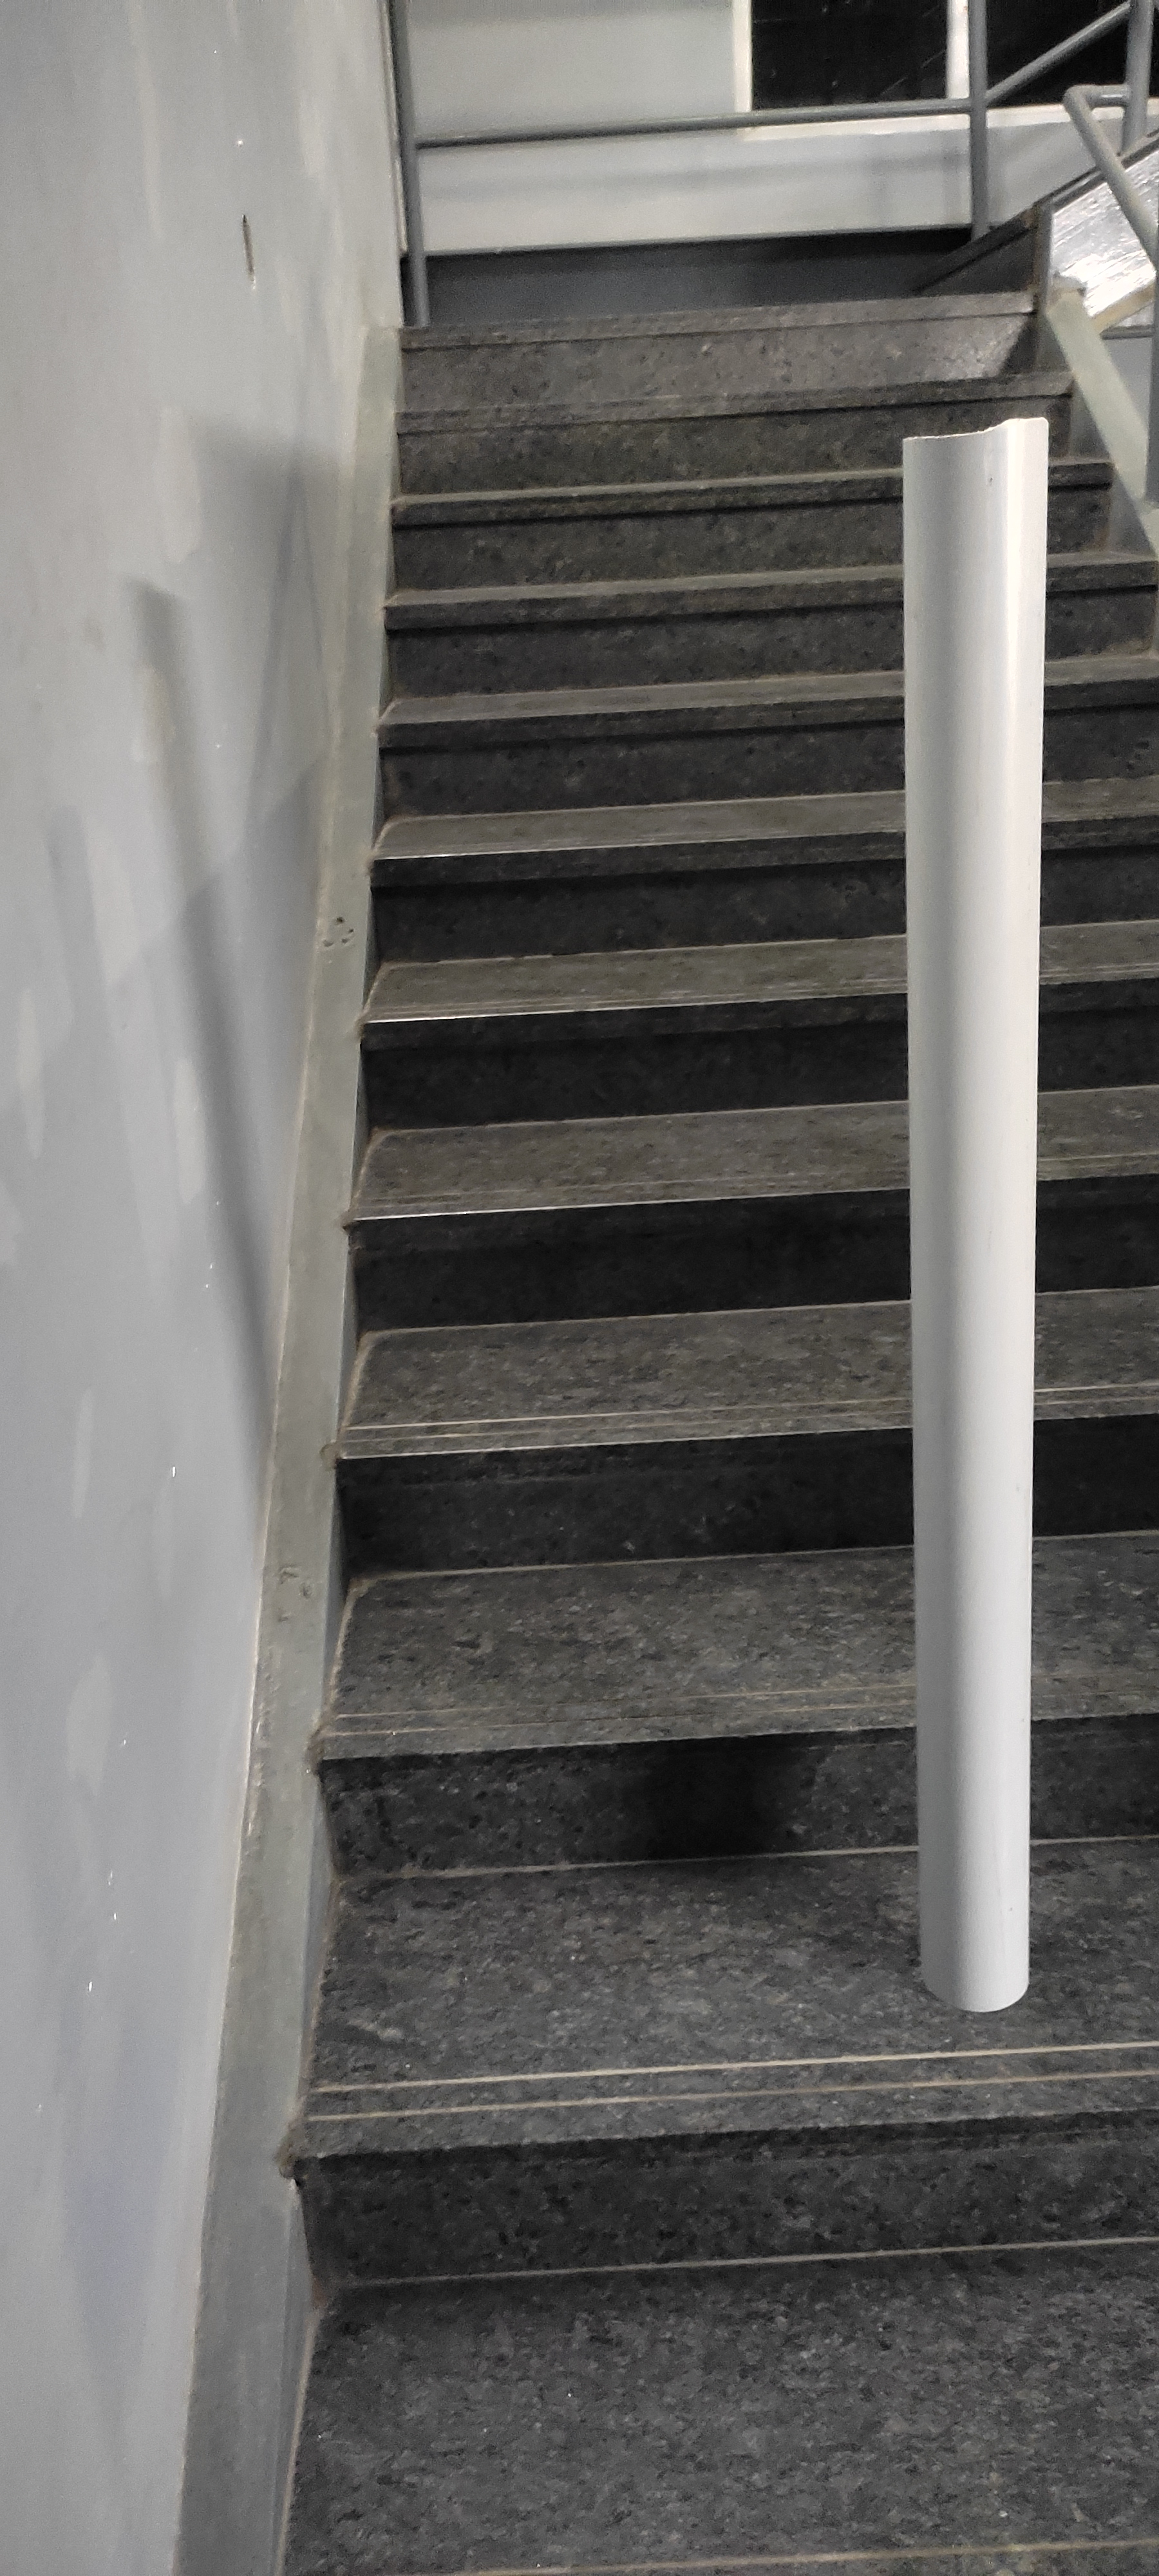pole: (875, 391, 1064, 2019)
